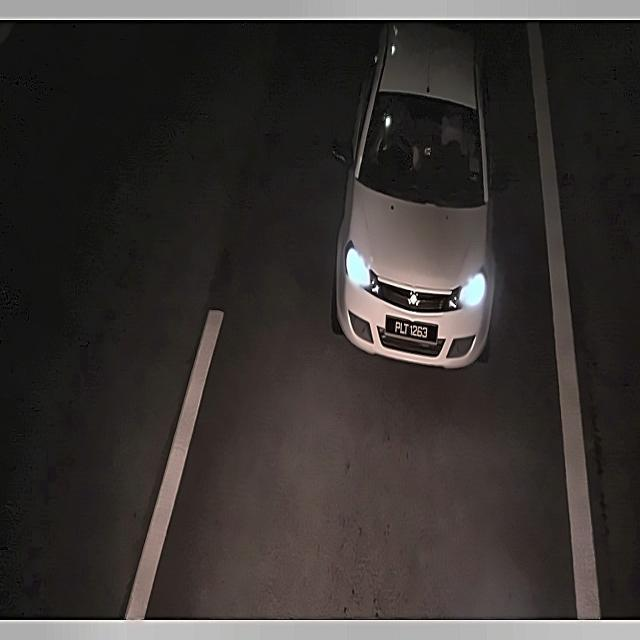car: (379, 308, 442, 350)
